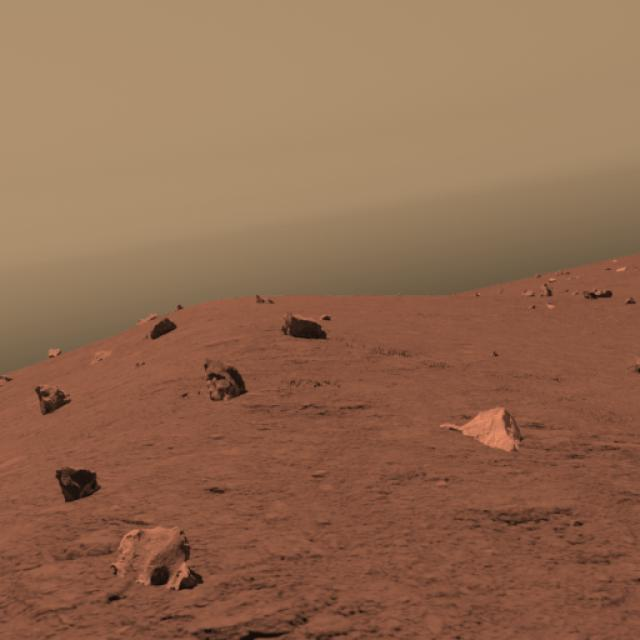rock: (110, 524, 209, 598), (442, 402, 530, 464), (46, 454, 108, 508), (195, 350, 250, 407)
